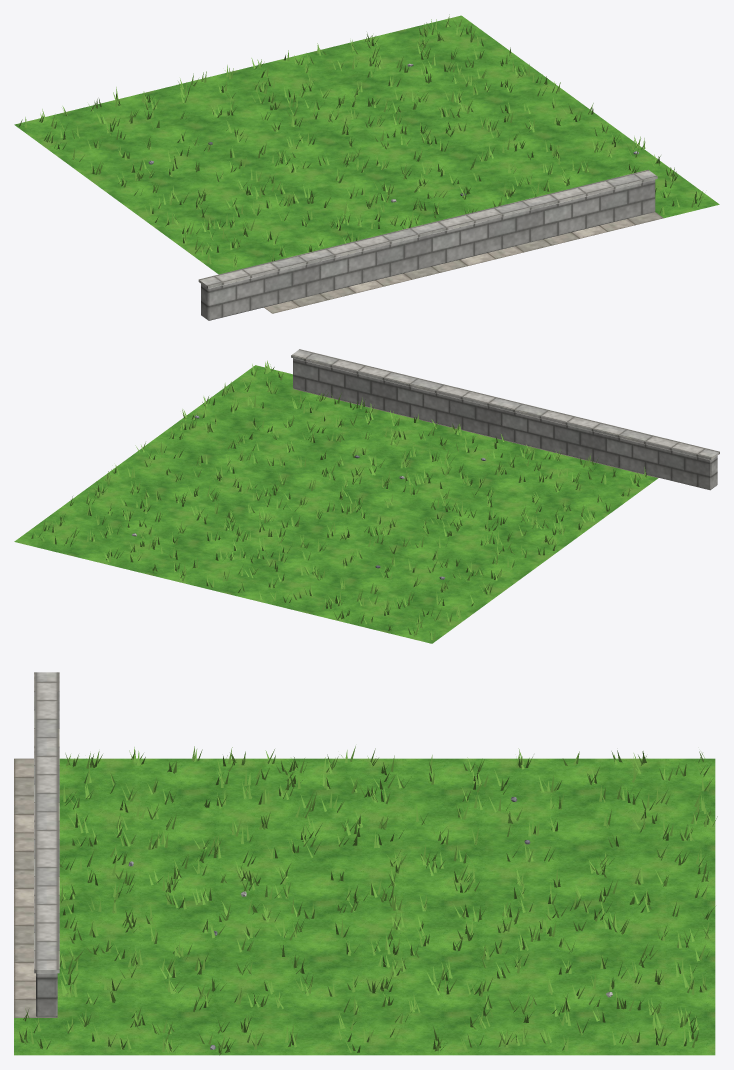
Rendered from chunk_3_6.glb.
3 views of the same model, one above another, from view 1: azimuth 30°, elevation 25°; view 2: azimuth 150°, elevation 25°; view 3: azimuth 270°, elevation 25° (orthographic). The views are drawn at different scales.
Visible parts, largest first — view 1: chunk_3_6; view 2: chunk_3_6; view 3: chunk_3_6.
Part boxes in pixels (x1=…): chunk_3_6: x1=14, y1=14, x2=719, y2=320; chunk_3_6: x1=14, y1=349, x2=719, y2=643; chunk_3_6: x1=14, y1=672, x2=717, y2=1055.
Bounding box in the file's own units: 18.11 × 1.28 × 16.11.
7 materials, 6 textured.
